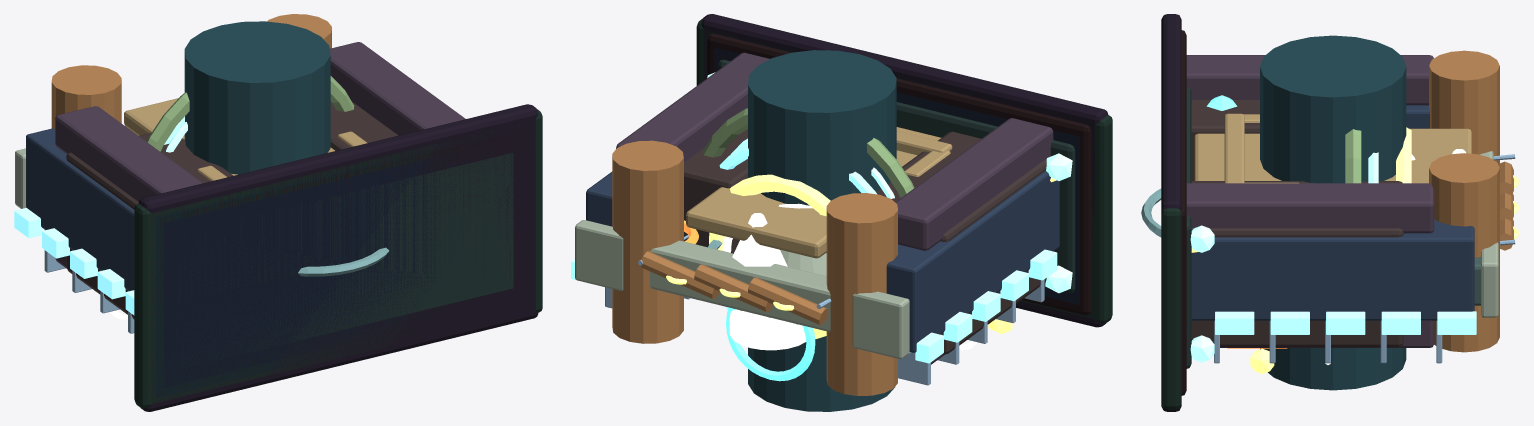
File: dungeon-landmarks-v1.glb
The picture shows the model from 3 angles, left to right: view 1: azimuth 30°, elevation 25°; view 2: azimuth 150°, elevation 25°; view 3: azimuth 270°, elevation 25°; orthographic projection. The views are drawn at different scales.
Visible parts, largest first — view 1: Archive plinth, Tribunal plinth, Memorial plinth, Beacon tower, Confluence plinth, Archive shelf, Tribunal monolith.001, Tribunal monolith.003, Beacon pier, Kiln chimney, Kiln plinth, Kiln furnace (+10 smaller); view 2: Beacon tower, Archive shelf, Kiln chimney.001, Kiln chimney, Tribunal monolith.001, Tribunal plinth, Kiln plinth, Empty throne back, Tribunal monolith.003, Memorial lintel, Confluence plinth, Memorial plinth (+26 smaller); view 3: Beacon tower, Archive shelf.001, Tribunal monolith.003, Kiln chimney.001, Kiln chimney, Kiln furnace.001, Empty throne back, Tribunal monolith.001, Confluence plinth, Tribunal plinth, Kiln plinth, Kiln furnace (+19 smaller).
Boxes of the visible parts, <box> form: Archive plinth: <box>164,149,482,388</box>; Tribunal plinth: <box>138,104,538,411</box>; Memorial plinth: <box>174,153,513,368</box>; Beacon tower: <box>184,21,330,174</box>; Confluence plinth: <box>134,109,542,408</box>; Archive shelf: <box>26,128,134,291</box>; Tribunal monolith.001: <box>55,106,202,201</box>; Tribunal monolith.003: <box>330,42,465,135</box>; Beacon pier: <box>156,148,439,398</box>; Kiln chimney: <box>51,65,121,129</box>; Kiln plinth: <box>160,130,526,394</box>; Kiln furnace: <box>66,132,233,319</box>; Beacon tower: <box>748,50,896,411</box>; Archive shelf: <box>886,170,1059,352</box>; Kiln chimney.001: <box>612,140,683,343</box>; Kiln chimney: <box>826,193,897,395</box>; Tribunal monolith.001: <box>895,118,1053,250</box>; Tribunal plinth: <box>701,14,1108,327</box>; Kiln plinth: <box>707,33,1091,315</box>; Empty throne back: <box>686,127,941,258</box>; Tribunal monolith.003: <box>616,52,769,162</box>; Memorial lintel: <box>650,240,830,331</box>; Confluence plinth: <box>696,18,1112,323</box>; Memorial plinth: <box>718,59,1075,292</box>; Beacon tower: <box>1260,35,1406,390</box>; Archive shelf.001: <box>1191,219,1474,320</box>; Tribunal monolith.003: <box>1186,183,1434,233</box>; Kiln chimney.001: <box>1429,153,1499,352</box>; Kiln chimney: <box>1429,50,1499,164</box>; Kiln furnace.001: <box>1191,181,1403,347</box>; Empty throne back: <box>1194,128,1471,183</box>; Tribunal monolith.001: <box>1186,55,1433,105</box>; Confluence plinth: <box>1161,208,1181,409</box>; Tribunal plinth: <box>1161,14,1181,411</box>; Kiln plinth: <box>1181,30,1186,395</box>; Kiln furnace: <box>1191,100,1259,180</box>.
Size of the model in its own units: 9.2 by 6.4 by 7.5.
